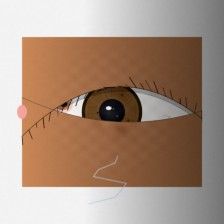foreign_body_visible: (88, 115, 133, 151)
